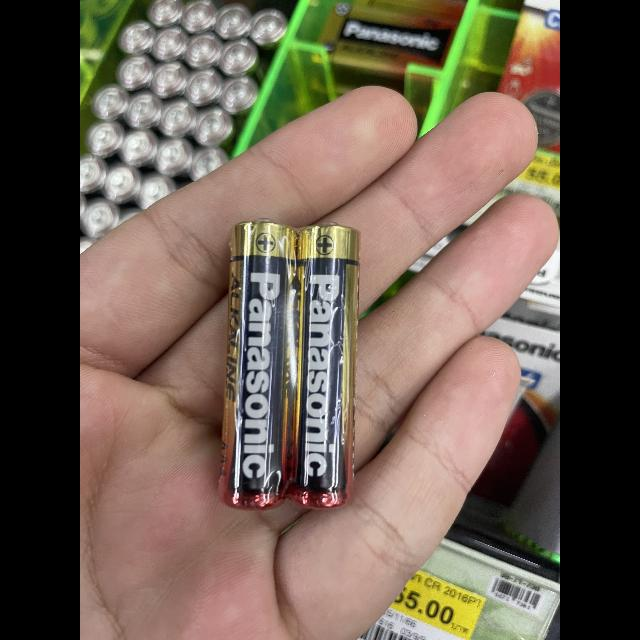battery: (219, 223, 299, 513), (292, 225, 368, 521)
